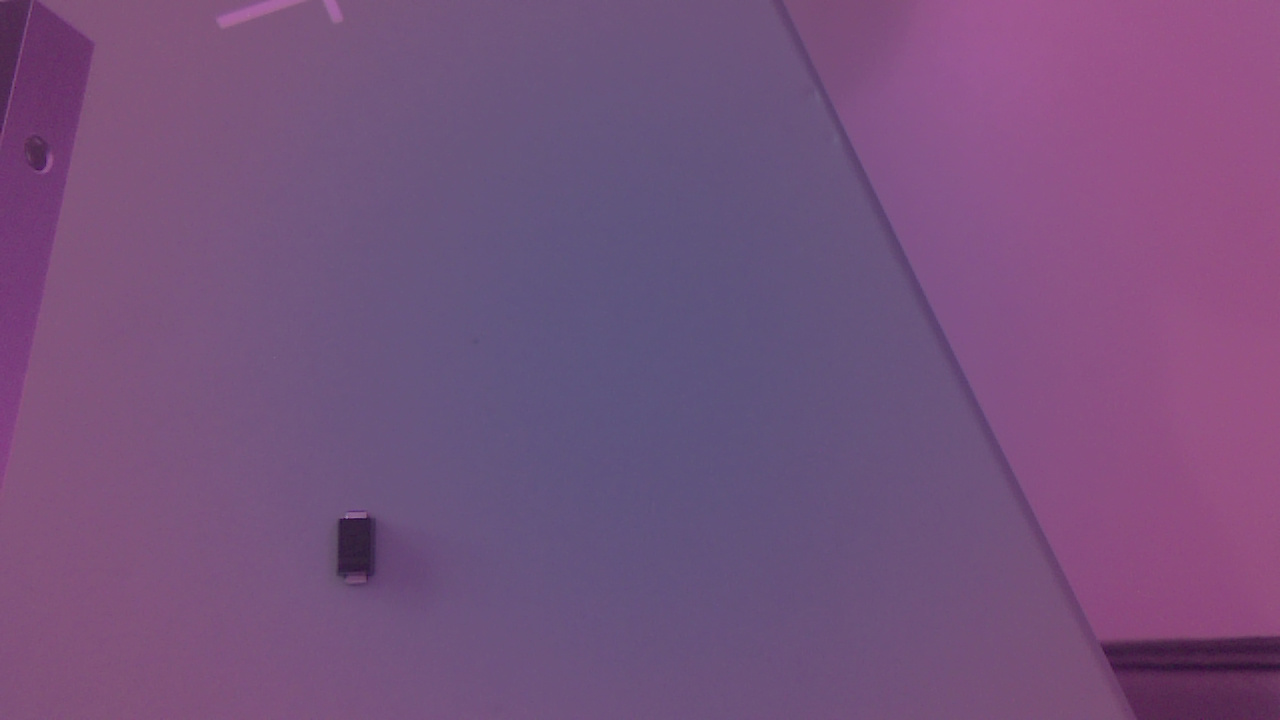Diode: (335, 507, 398, 596)
